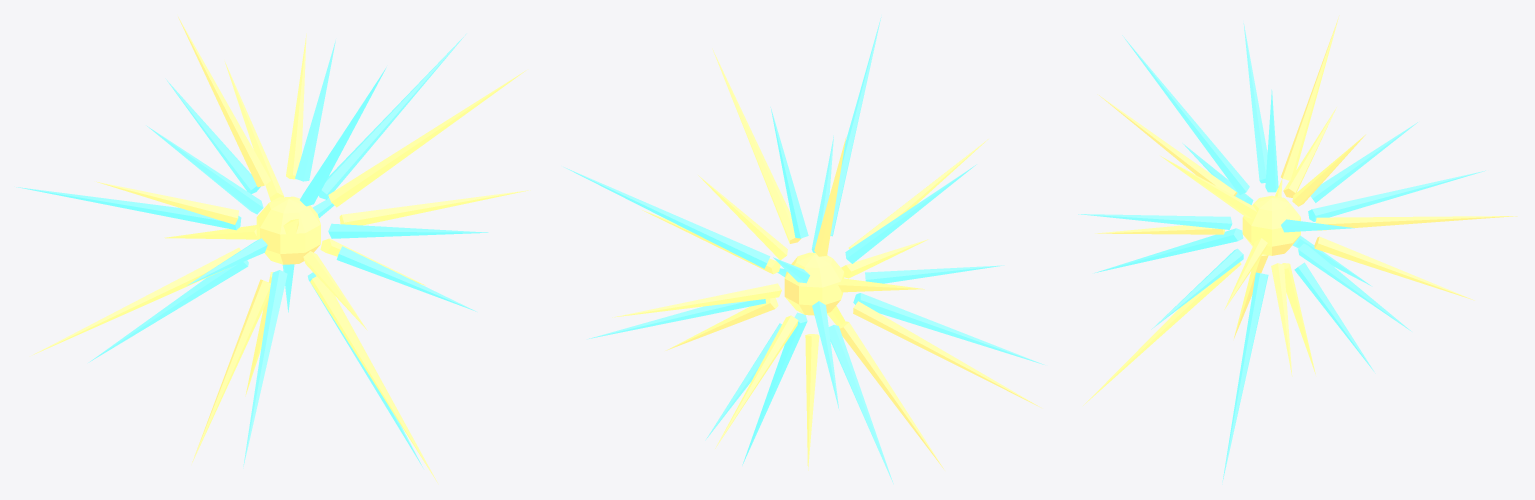
The model's file is fx_spark_burst.glb.
The picture shows the model from 3 angles, left to right: view 1: azimuth 30°, elevation 25°; view 2: azimuth 150°, elevation 25°; view 3: azimuth 270°, elevation 25°; orthographic projection. The views are drawn at different scales.
Parts seen in each view (by area): view 1: fx_spark_burst_warm, fx_spark_burst_glow; view 2: fx_spark_burst_warm, fx_spark_burst_glow; view 3: fx_spark_burst_warm, fx_spark_burst_glow.
Part boxes in pixels (box(x1,y1,x2,y2)): fx_spark_burst_warm: box(31, 17, 530, 484); fx_spark_burst_glow: box(16, 33, 488, 468); fx_spark_burst_warm: box(612, 48, 1041, 470); fx_spark_burst_glow: box(564, 17, 1044, 484); fx_spark_burst_warm: box(1083, 15, 1517, 405); fx_spark_burst_glow: box(1078, 23, 1485, 484).
Bounding box in the file's own units: 3.48 × 3.26 × 3.19.
